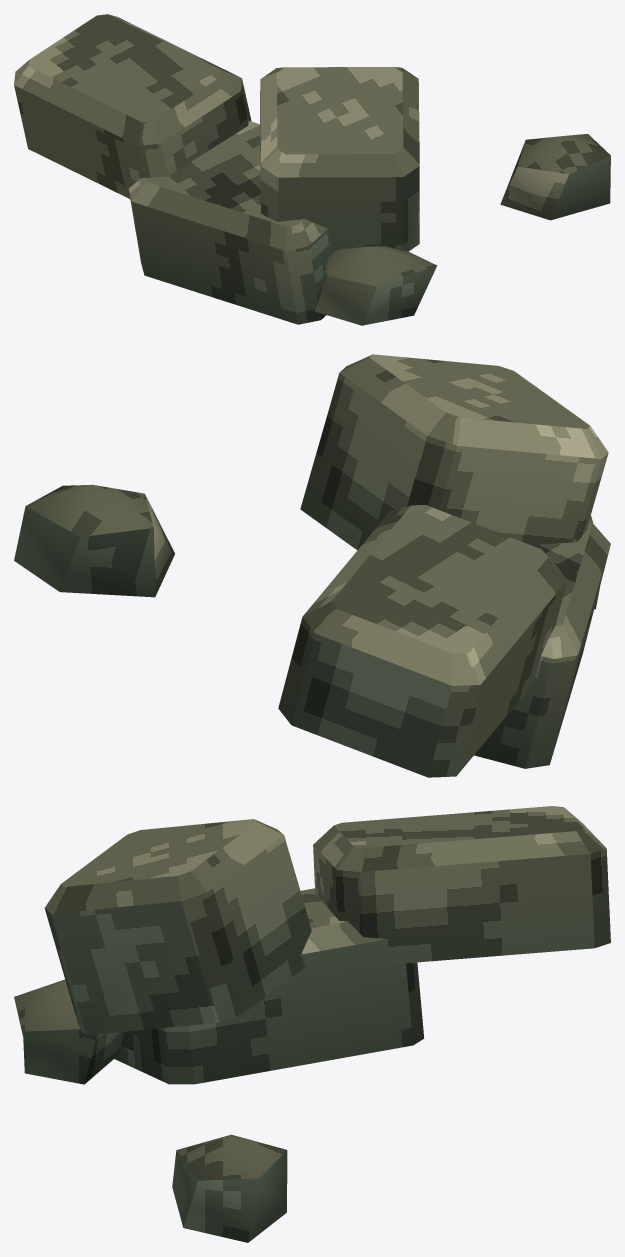
Rendered from ruin.rubble.glb.
3 renders of one model, top to bottom at view 1: azimuth 30°, elevation 25°; view 2: azimuth 150°, elevation 25°; view 3: azimuth 270°, elevation 25°, orthographic. The views are drawn at different scales.
Visible parts, largest first — view 1: kit_blocks; view 2: kit_blocks; view 3: kit_blocks.
Part boxes in pixels (x1=…): kit_blocks: x1=14, y1=14, x2=610, y2=325; kit_blocks: x1=14, y1=354, x2=610, y2=777; kit_blocks: x1=14, y1=806, x2=610, y2=1242.
Size of the model in its own units: 2.3 by 0.971 by 2.08.
1 material, 1 textured.
